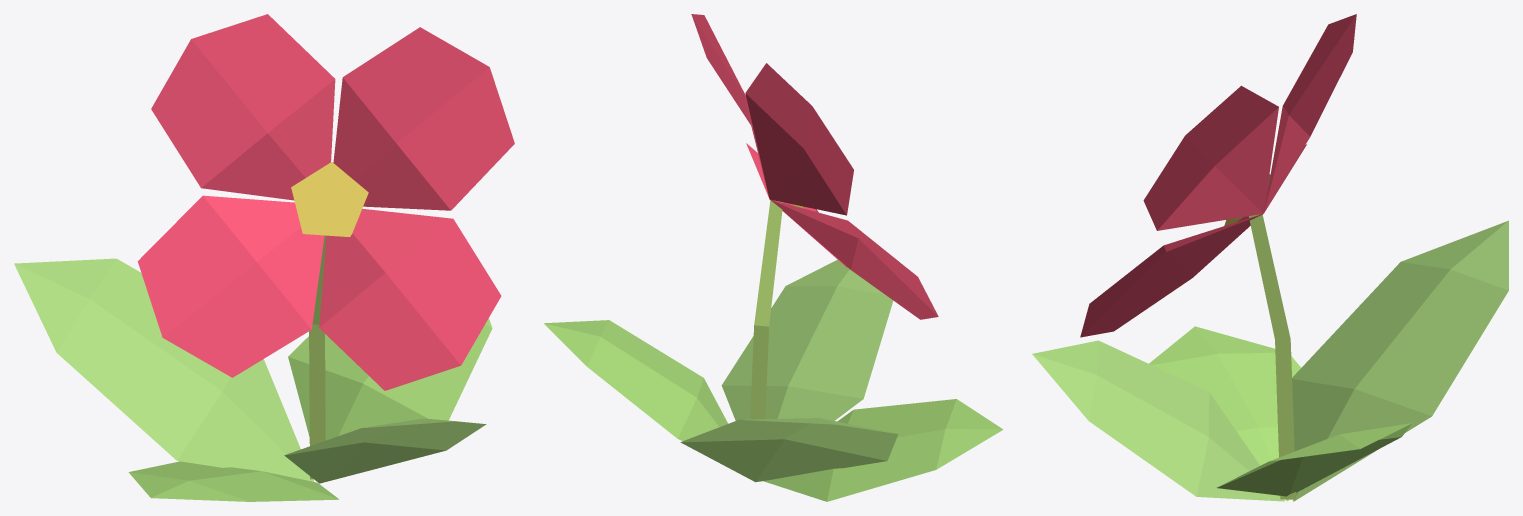
Rendered from Flower_c_TwoS_15.fbx.
The picture shows the model from 3 angles, left to right: view 1: azimuth 30°, elevation 25°; view 2: azimuth 150°, elevation 25°; view 3: azimuth 270°, elevation 25°; orthographic projection. The views are drawn at different scales.
Parts seen in each view (by area): view 1: Flower_c_TwoS_15; view 2: Flower_c_TwoS_15; view 3: Flower_c_TwoS_15.
Boxes of the visible parts, x1,y1,x2,y2 form: Flower_c_TwoS_15: (14,14,514,501); Flower_c_TwoS_15: (544,14,1003,501); Flower_c_TwoS_15: (1032,14,1508,501).
Bounding box in the file's own units: 35.15 × 38.55 × 35.95.
